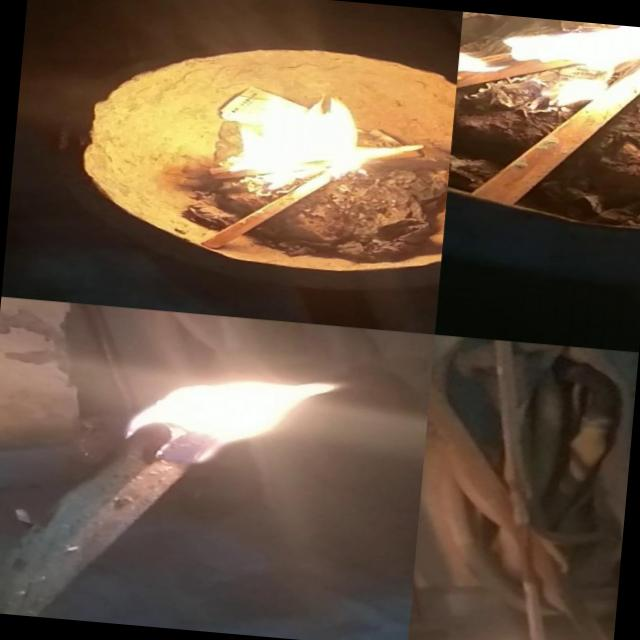fire: (110, 340, 368, 488), (188, 73, 409, 212), (454, 11, 640, 119), (407, 614, 584, 640)
